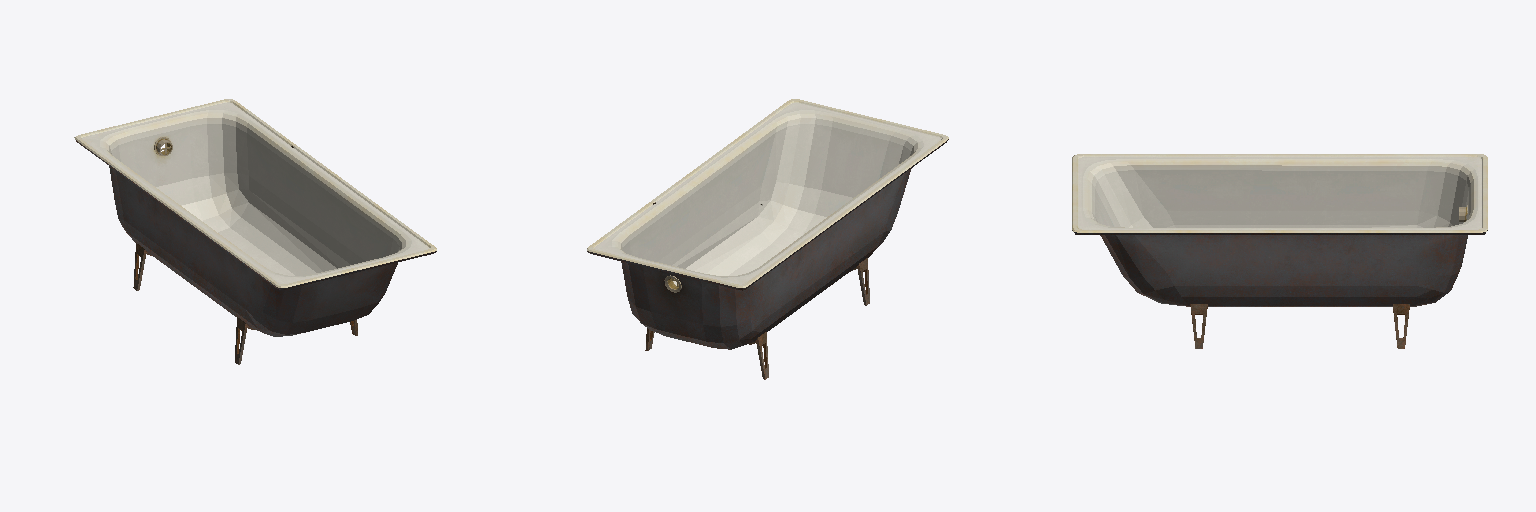
The picture shows the model from 3 angles: view 1: azimuth 30°, elevation 25°; view 2: azimuth 150°, elevation 25°; view 3: azimuth 270°, elevation 25°; orthographic projection.
Parts seen in each view (by area): view 1: Bath01; view 2: Bath01; view 3: Bath01.
Part boxes in pixels (x1,y1,x2,y2): Bath01: (74, 99, 436, 364); Bath01: (587, 99, 948, 379); Bath01: (1072, 154, 1487, 348).
Size of the model in its own units: 80 by 60.56 by 180.
Materials: 1 (1 with a texture image).